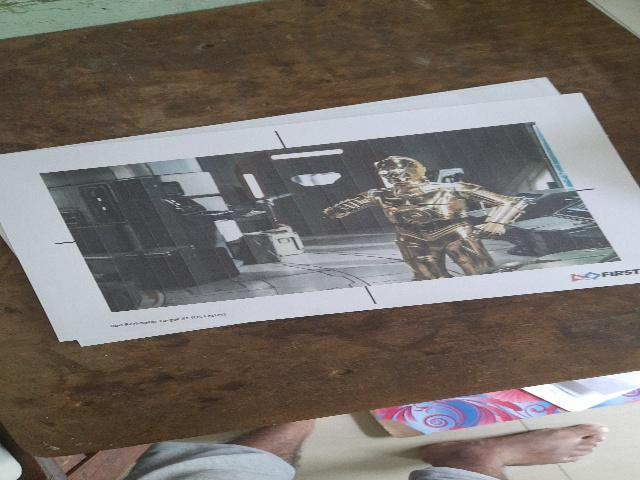rpt1: (26, 129, 640, 314)
